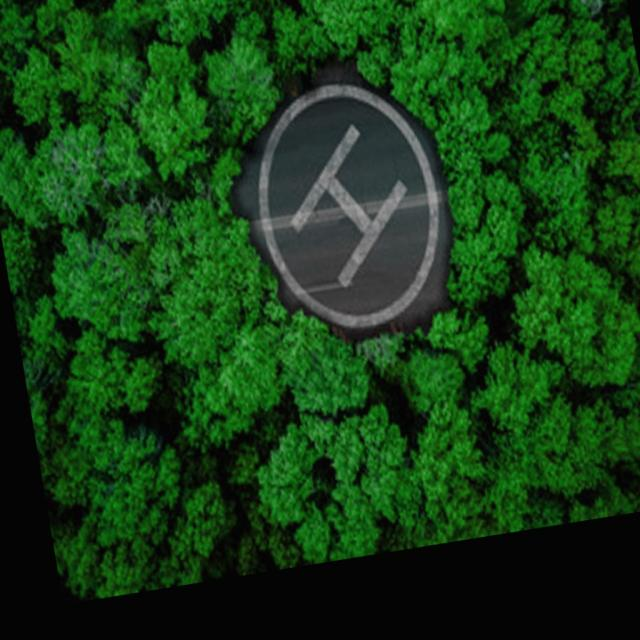helipad: (253, 79, 442, 332)
